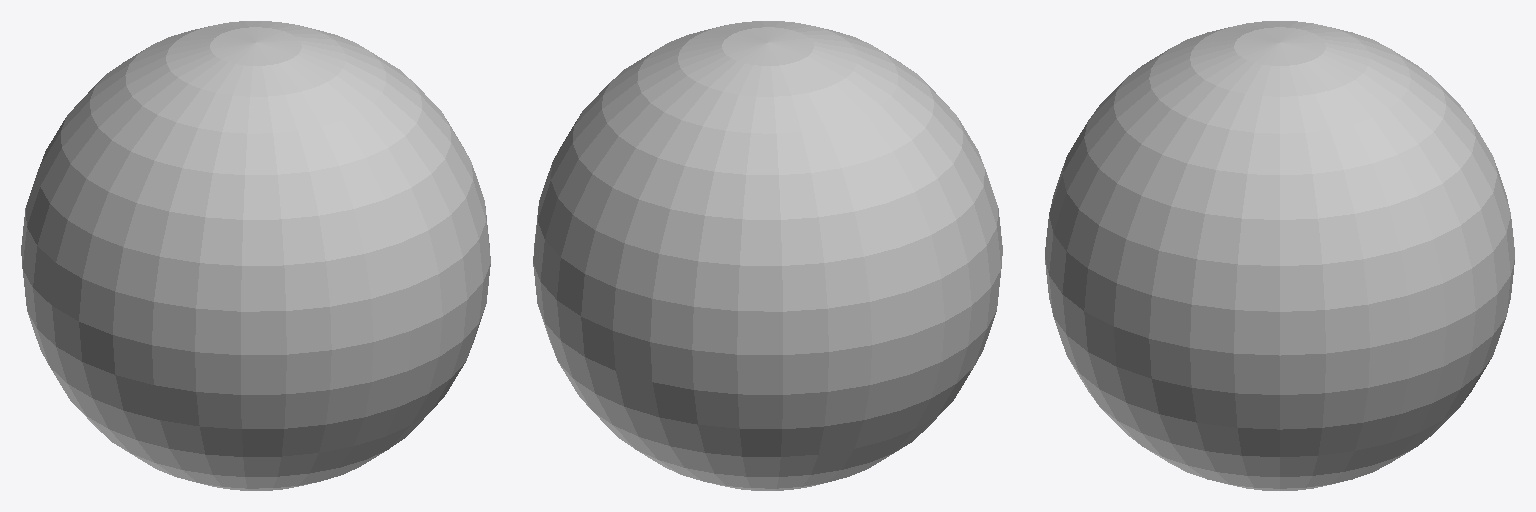
File: ball.obj
3 renders of one model, left to right at view 1: azimuth 30°, elevation 25°; view 2: azimuth 150°, elevation 25°; view 3: azimuth 270°, elevation 25°, orthographic.
Parts seen in each view (by area): view 1: Robot; view 2: Robot; view 3: Robot.
Part boxes in pixels (left/top/right/bottom): Robot: left=21, top=21, right=490, bottom=490; Robot: left=533, top=21, right=1002, bottom=490; Robot: left=1045, top=21, right=1514, bottom=490.
Size of the model in its own units: 7.23 by 7.23 by 7.23.